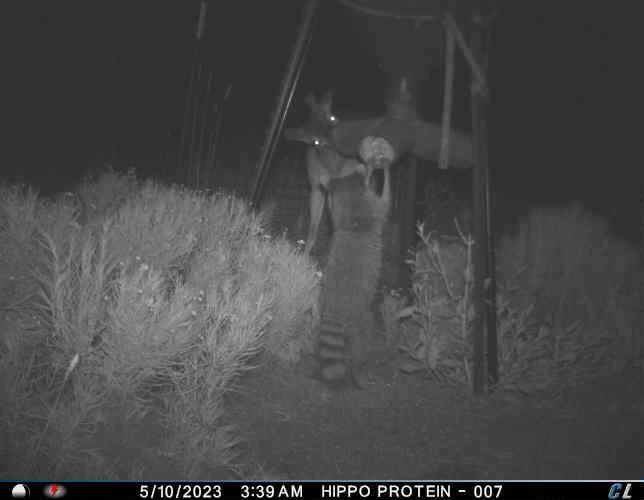Deer: (285, 86, 345, 259)
Raccoon: (314, 157, 395, 389)
